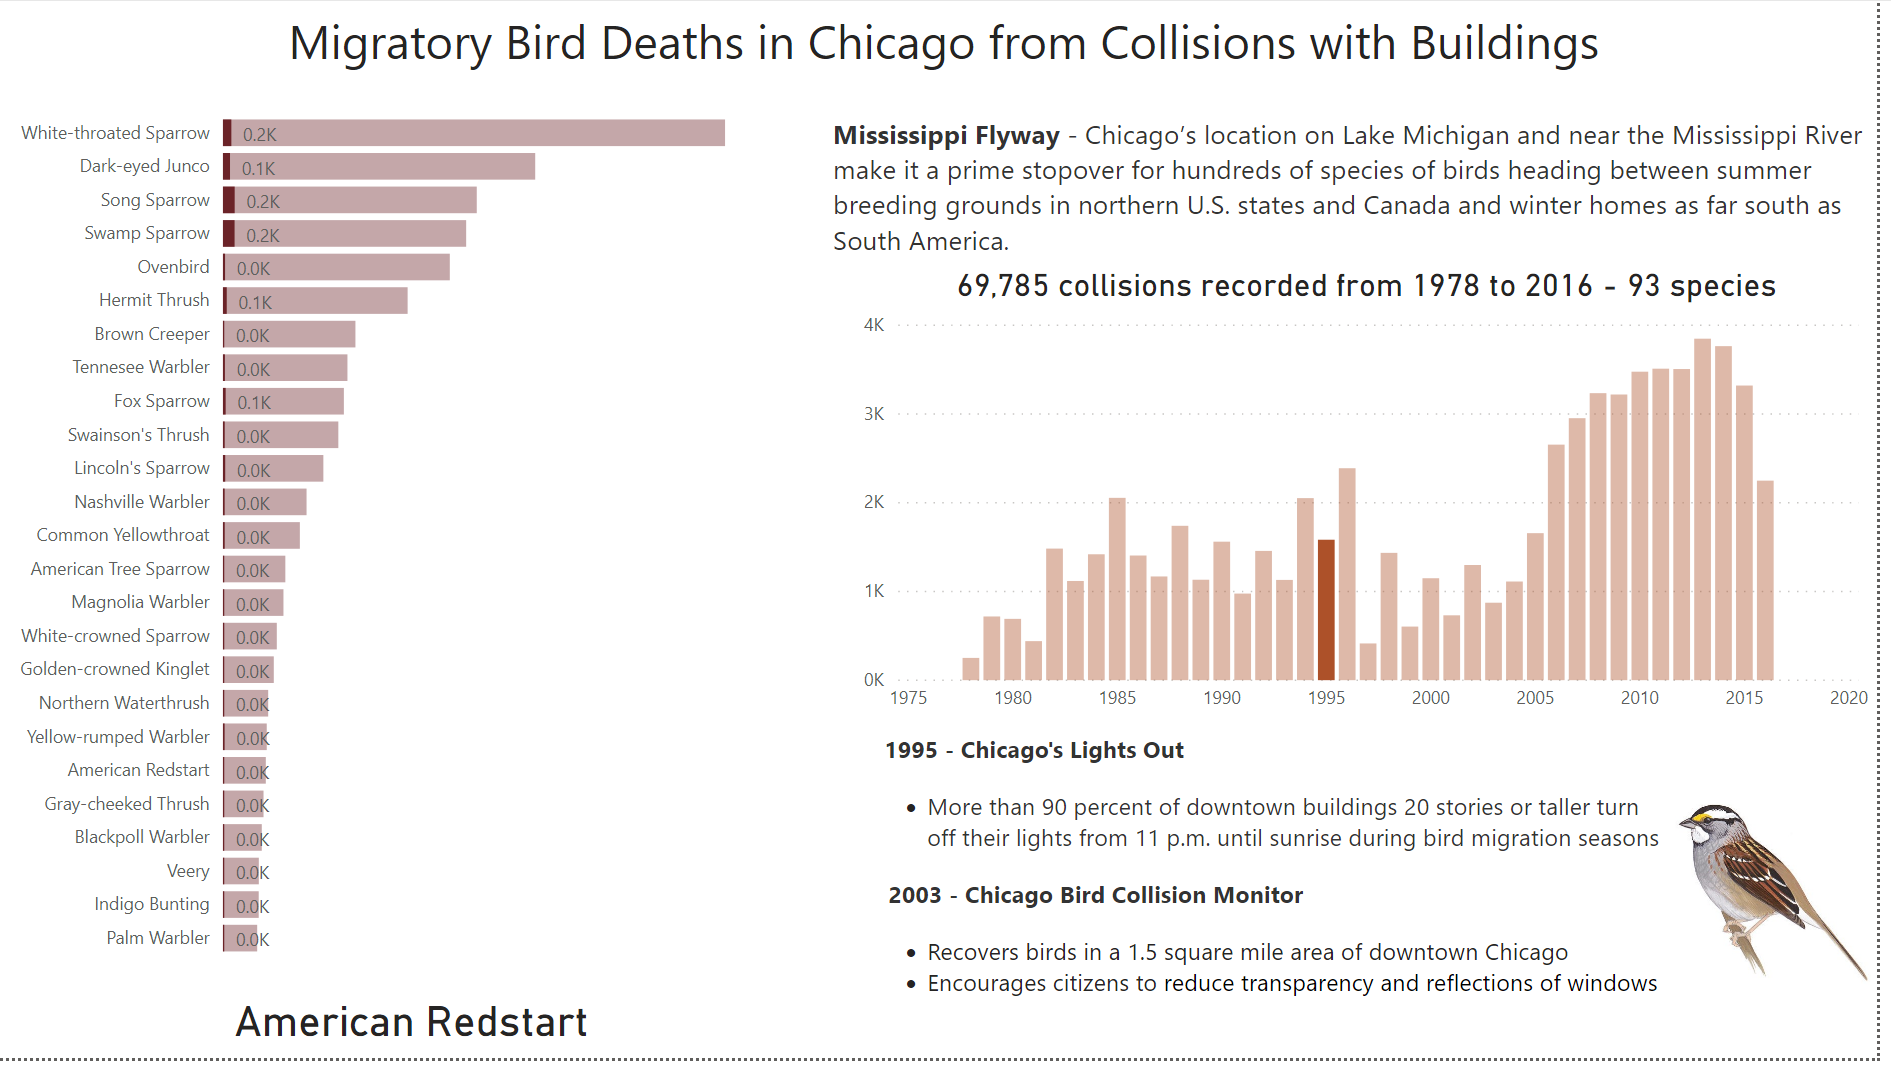

Layout of this report page (visuals, bound fields, positions):
{"tool":"powerbi","page":{"name":"Page 1","canvas":[1280,720],"ordinal":0},"visuals":[{"type":"clusteredColumnChart","title":"69,785 collisions recorded from\t1978 to 2016 - 93 species","fields":{"Y":["CountNonNull(Chicago_collision_data.Bird Species)"],"Category":["Chicago_collision_data.Date.Variation.Date Hierarchy.Year","Chicago_collision_data.Date.Variation.Date Hierarchy.Month"]},"box":[584.1,181.2,696.2,312.3],"z":0},{"type":"barChart","title":"Bird Collisions by Species","fields":{"Category":["Chicago_collision_data.Bird Species - Common Name"],"Y":["CountNonNull(Chicago_collision_data.Bird Species - Common Name)"]},"box":[0,58.1,563.3,603.5],"z":1000},{"type":"card","title":"Bird Species","fields":{"Values":["Min(Chicago_collision_data.Bird Species - Common Name)"]},"box":[0,664.6,563.3,55.1],"z":2000},{"type":"textbox","box":[187.8,0,911.9,55.1],"z":3000},{"type":"textbox","box":[563.8,72.7,712.8,108.5],"z":4000},{"type":"textbox","box":[584.1,493.5,553.1,226.5],"z":5000},{"type":"image","box":[1137.2,493.5,143,226.5],"z":6000}]}

Visuals, with their boxes in screenshot pixels (x1, y1, x2, y2), scaled from the page's 1280x720 canvas onto the 1891x1066 screenshot:
"69,785 collisions recorded from	1978 to 2016 - 93 species" clusteredColumnChart: {"x1": 863, "y1": 268, "x2": 1890, "y2": 731}
"Bird Collisions by Species" barChart: {"x1": 0, "y1": 86, "x2": 832, "y2": 980}
"Bird Species" card: {"x1": 0, "y1": 984, "x2": 832, "y2": 1065}
textbox: {"x1": 277, "y1": 0, "x2": 1625, "y2": 82}
textbox: {"x1": 833, "y1": 108, "x2": 1886, "y2": 268}
textbox: {"x1": 863, "y1": 731, "x2": 1680, "y2": 1065}
image: {"x1": 1680, "y1": 731, "x2": 1890, "y2": 1065}
